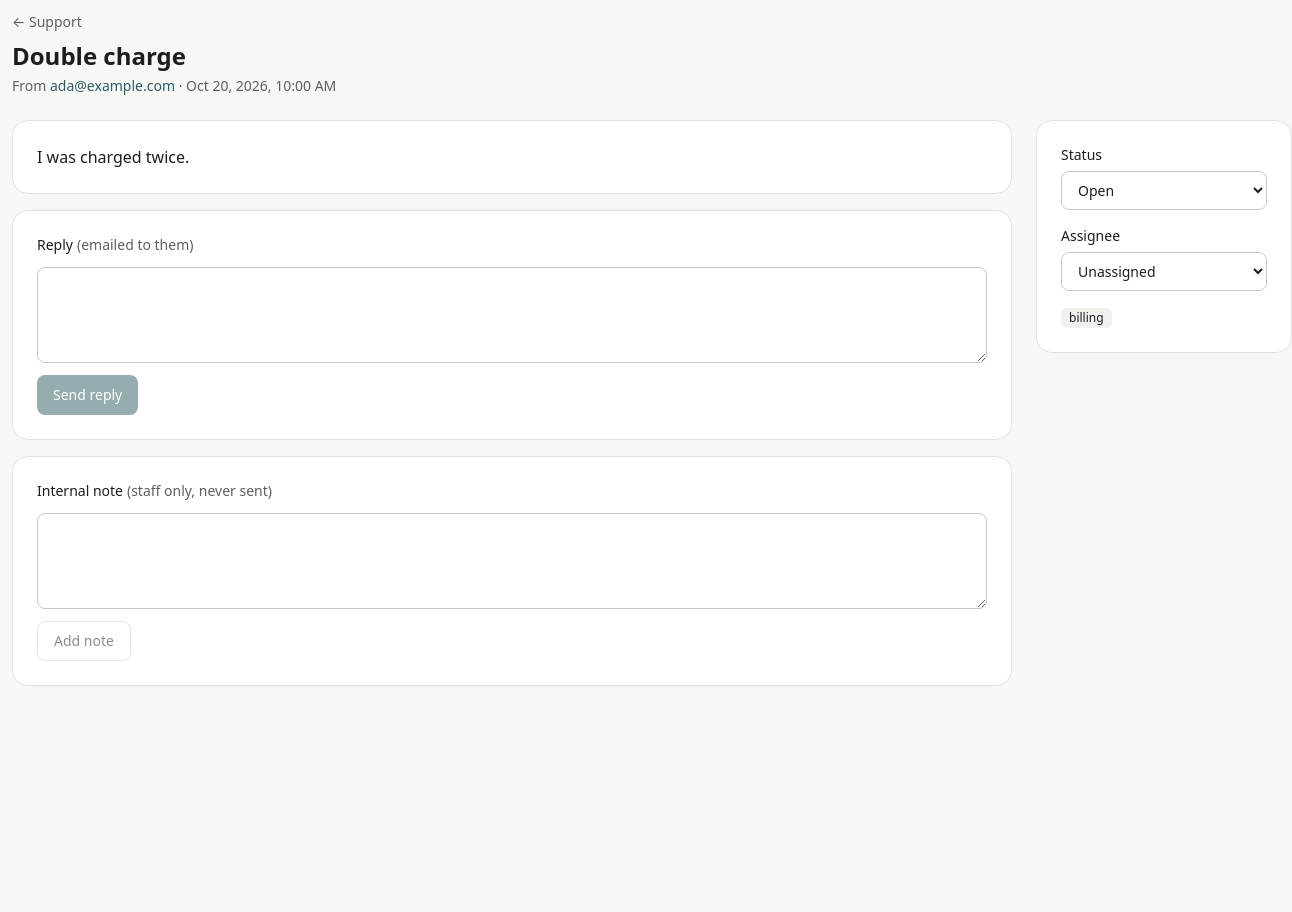
Test: support ticket › replies by email and keeps notes internal
Expected: the text "I was charged twice." is shown, [37, 146, 189, 168]
Type "Refunded." into the text box labelled "Reply(emailed to them)" at (512, 315), box [37, 267, 987, 363]
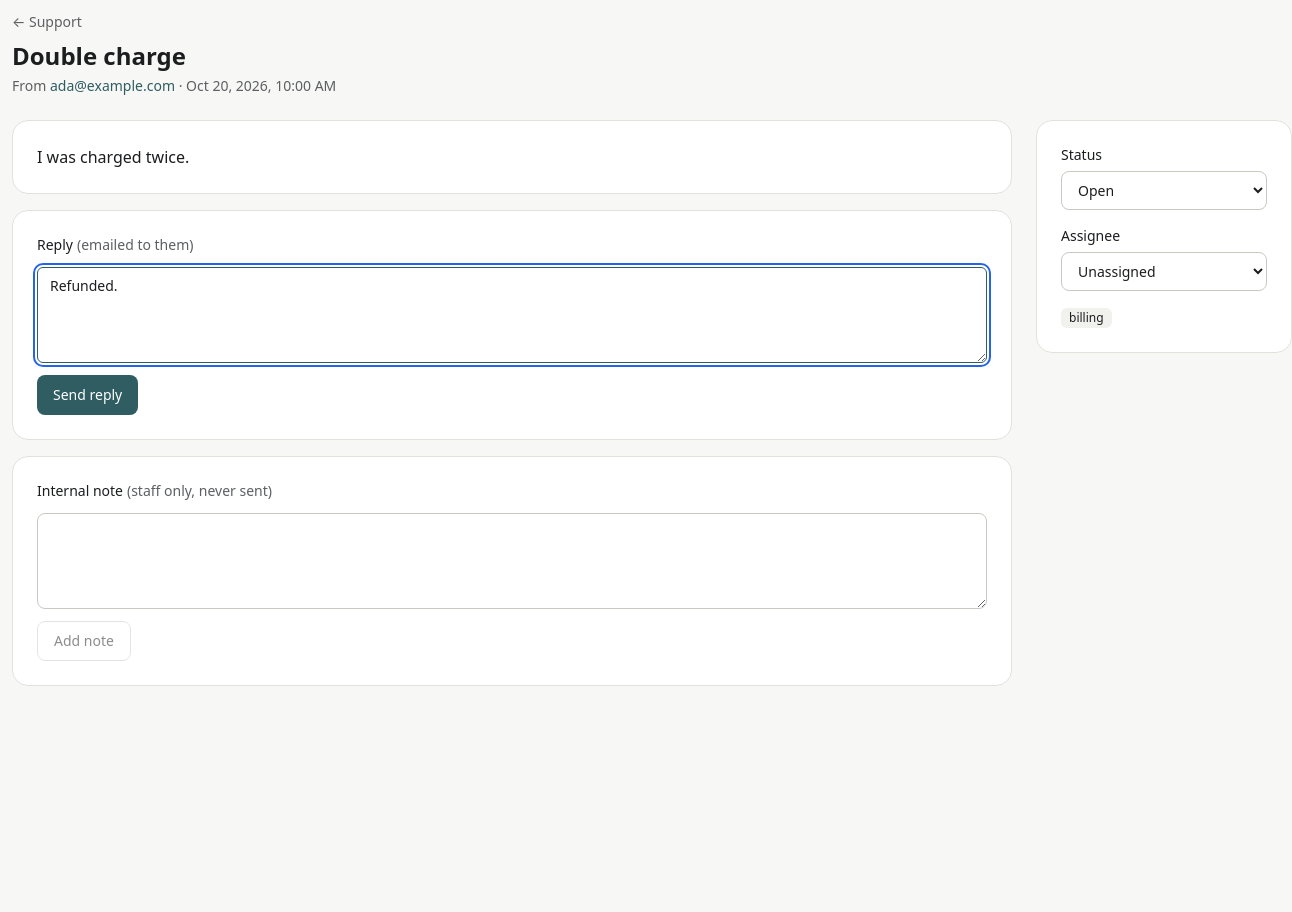
Click the button "Send reply" at (88, 395), box [37, 375, 138, 415]
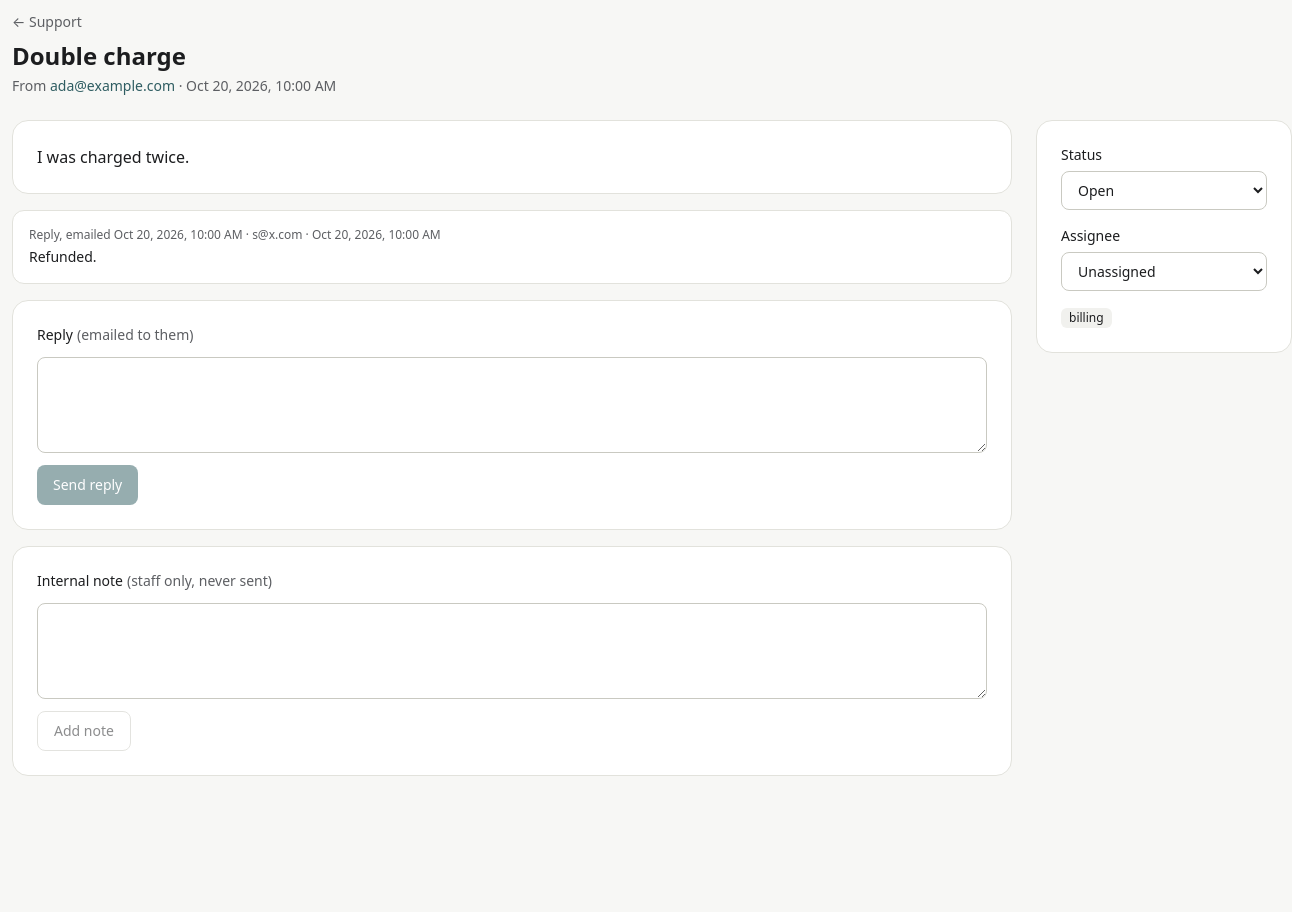
Expected: the text "Refunded." is shown, [29, 247, 97, 266]
Expected: the text "Reply, emailed" is shown, [29, 226, 243, 243]
